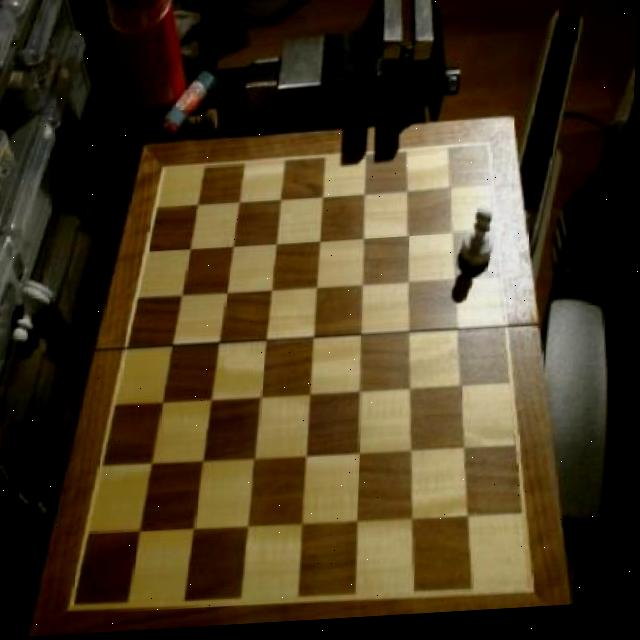white-knight: (460, 206, 499, 285)
